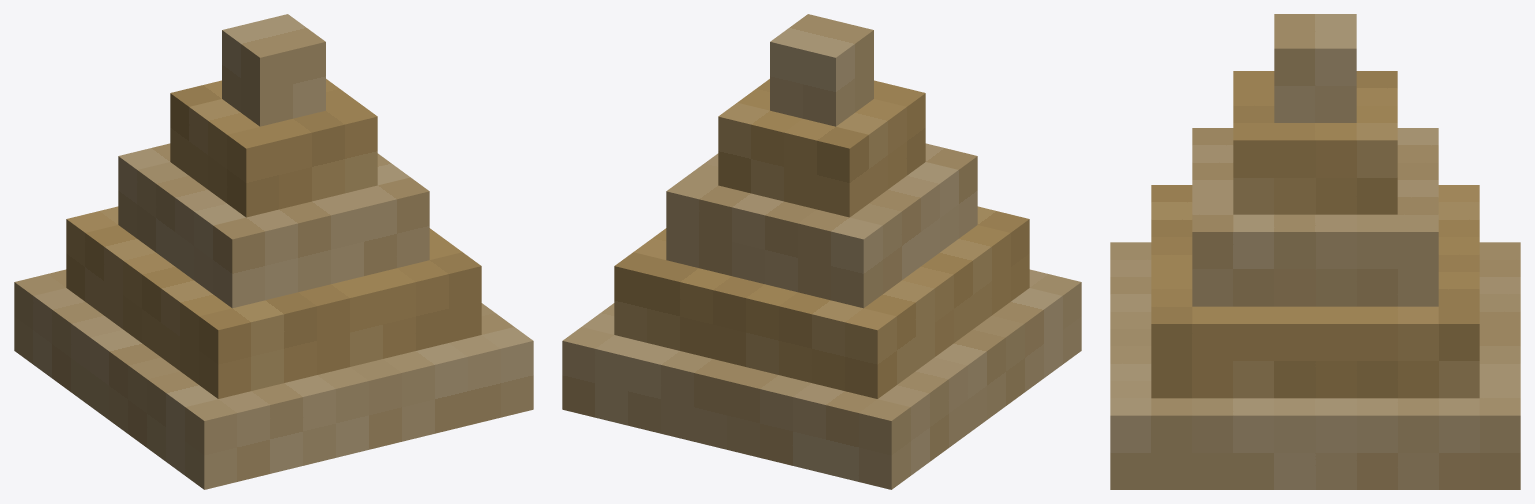
Rendered from Shell.dae.
3 renders of one model, left to right at view 1: azimuth 30°, elevation 25°; view 2: azimuth 150°, elevation 25°; view 3: azimuth 270°, elevation 25°, orthographic. The views are drawn at different scales.
Visible parts, largest first — view 1: Shell; view 2: Shell; view 3: Shell.
Boxes of the visible parts, box(x1,y1,x2,y2) form: Shell: box(14, 14, 533, 489); Shell: box(562, 14, 1081, 489); Shell: box(1110, 14, 1520, 489).
Bounding box in the file's own units: 10 × 10 × 10.
1 material, 1 textured.
